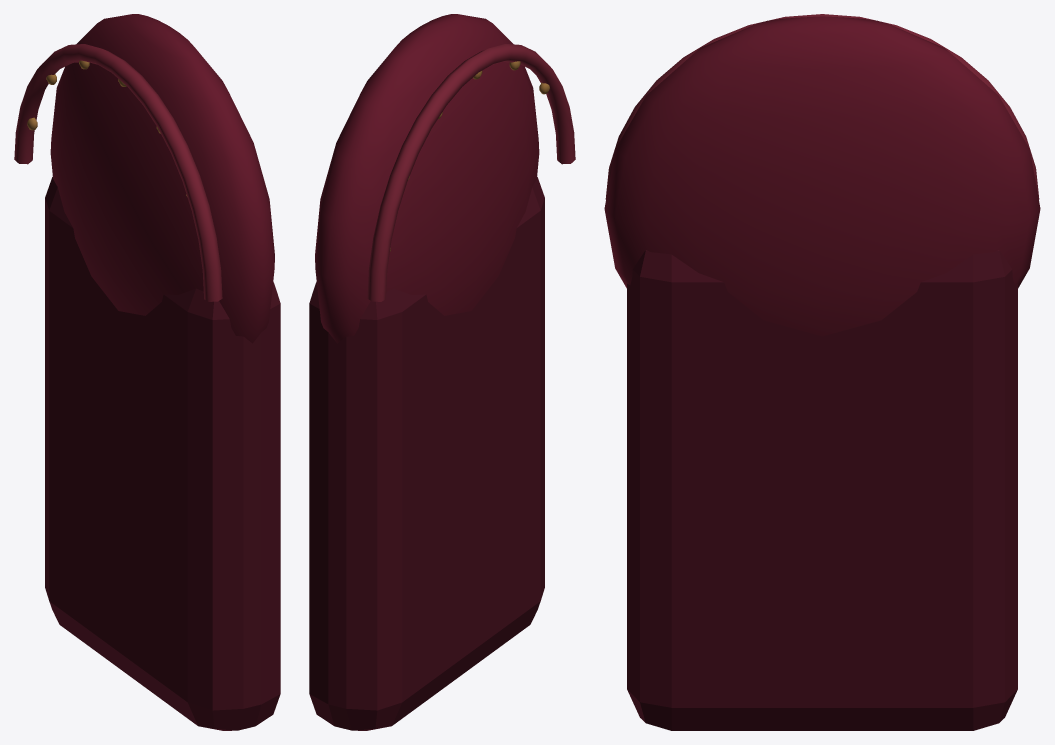
The model's file is SM_Menu_AudienceSeat_06.fbx.
The picture shows the model from 3 angles, left to right: view 1: azimuth 30°, elevation 25°; view 2: azimuth 150°, elevation 25°; view 3: azimuth 270°, elevation 25°; orthographic projection. The views are drawn at different scales.
Parts seen in each view (by area): view 1: Audience chair back.006_Baked; view 2: Audience chair back.006_Baked; view 3: Audience chair back.006_Baked.
Part boxes in pixels (<box>): Audience chair back.006_Baked: <box>14,14,280,730</box>; Audience chair back.006_Baked: <box>309,14,575,730</box>; Audience chair back.006_Baked: <box>604,14,1040,730</box>.
Size of the model in its own units: 24 by 78 by 140.
